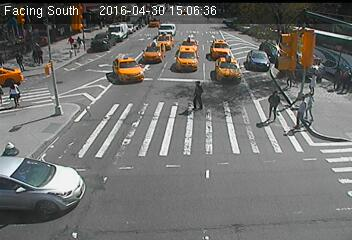neg: (132, 66, 171, 117), (144, 44, 172, 81), (50, 142, 76, 176), (126, 137, 149, 168), (236, 34, 259, 64), (229, 163, 251, 191), (268, 37, 286, 62), (206, 70, 222, 92), (296, 25, 311, 45)
pos: (257, 85, 285, 122), (186, 78, 209, 110), (1, 76, 22, 105), (291, 95, 312, 122), (304, 68, 323, 93), (69, 30, 87, 54), (9, 44, 26, 67), (29, 40, 46, 63), (61, 32, 73, 46)
